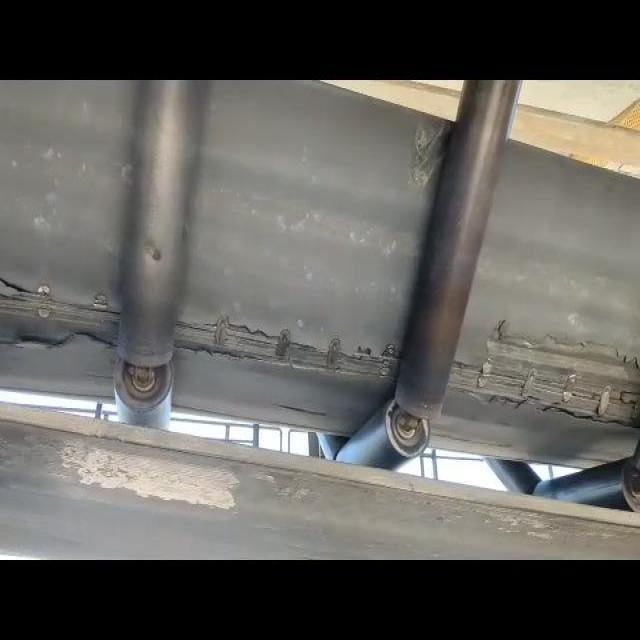Tear: (450, 314, 640, 456), (177, 304, 403, 384), (0, 269, 124, 324), (2, 326, 125, 359), (270, 396, 336, 427)
Wear: (399, 108, 452, 188)
